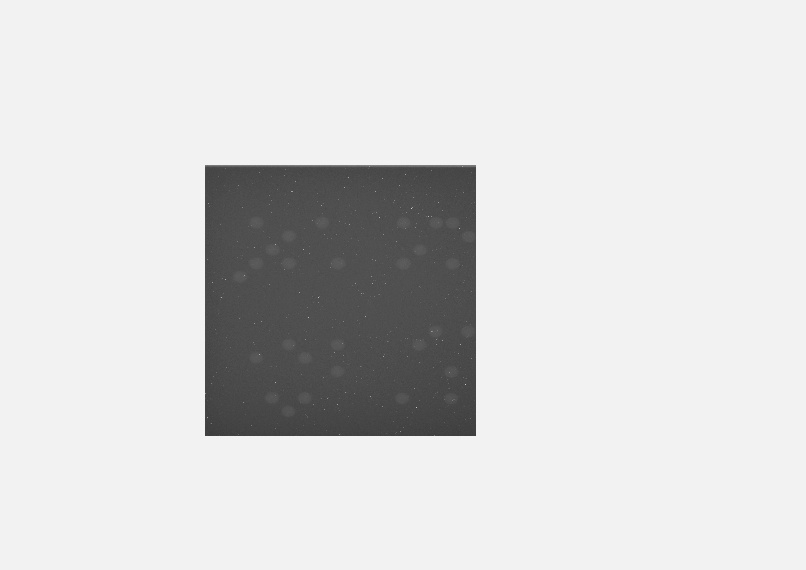cluster: (247, 338, 344, 417), (232, 215, 344, 283), (394, 324, 475, 405), (395, 213, 475, 270)
